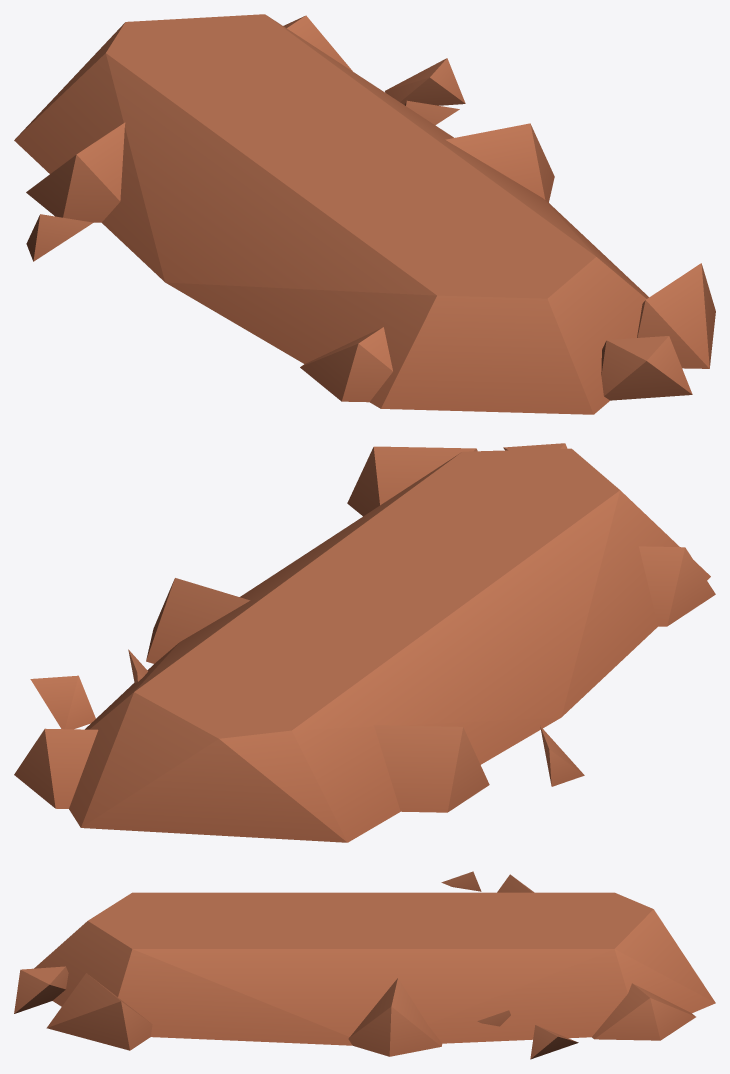
File: K_grave_lod.glb
3 renders of one model, top to bottom at view 1: azimuth 30°, elevation 25°; view 2: azimuth 150°, elevation 25°; view 3: azimuth 270°, elevation 25°, orthographic. The views are drawn at different scales.
Visible parts, largest first — view 1: grave; view 2: grave; view 3: grave.
Boxes of the visible parts, left/top/right/bottom form: grave: left=14, top=14, right=715, bottom=414; grave: left=14, top=443, right=715, bottom=842; grave: left=14, top=871, right=715, bottom=1059.
Bounding box in the file's own units: 0.7056 × 0.1139 × 1.21.
